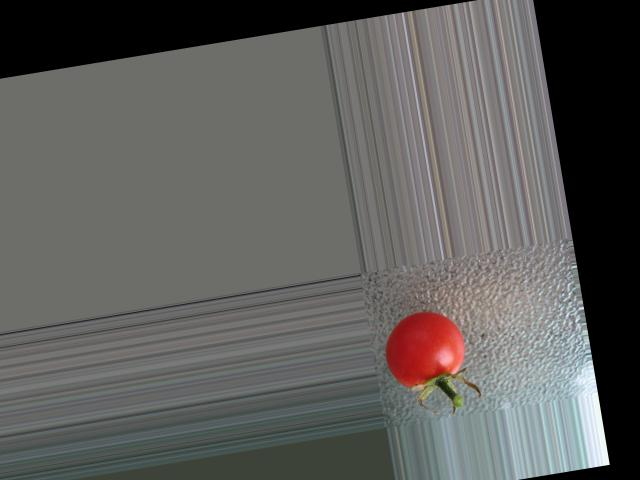tomato: (380, 304, 471, 390)
